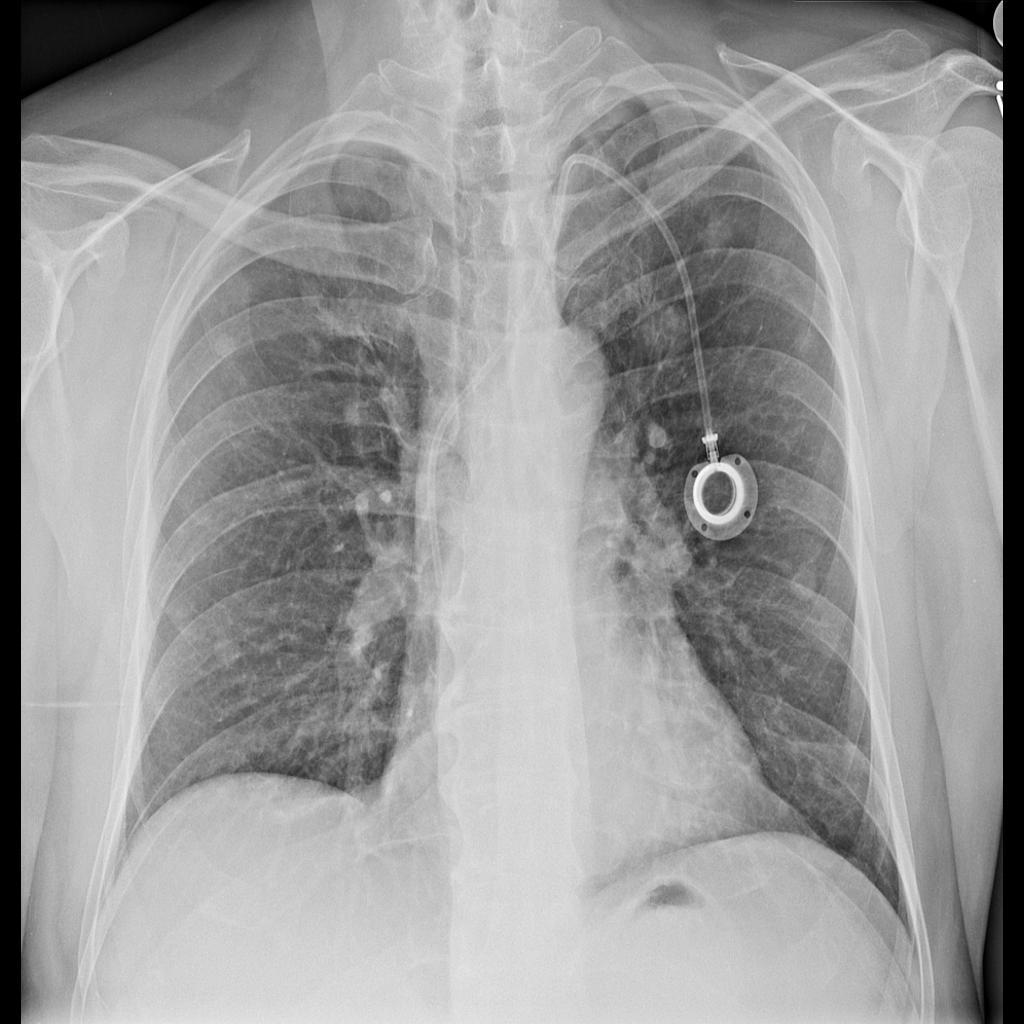Nodule: (635, 298, 696, 362), (782, 565, 823, 609), (214, 635, 247, 672)
